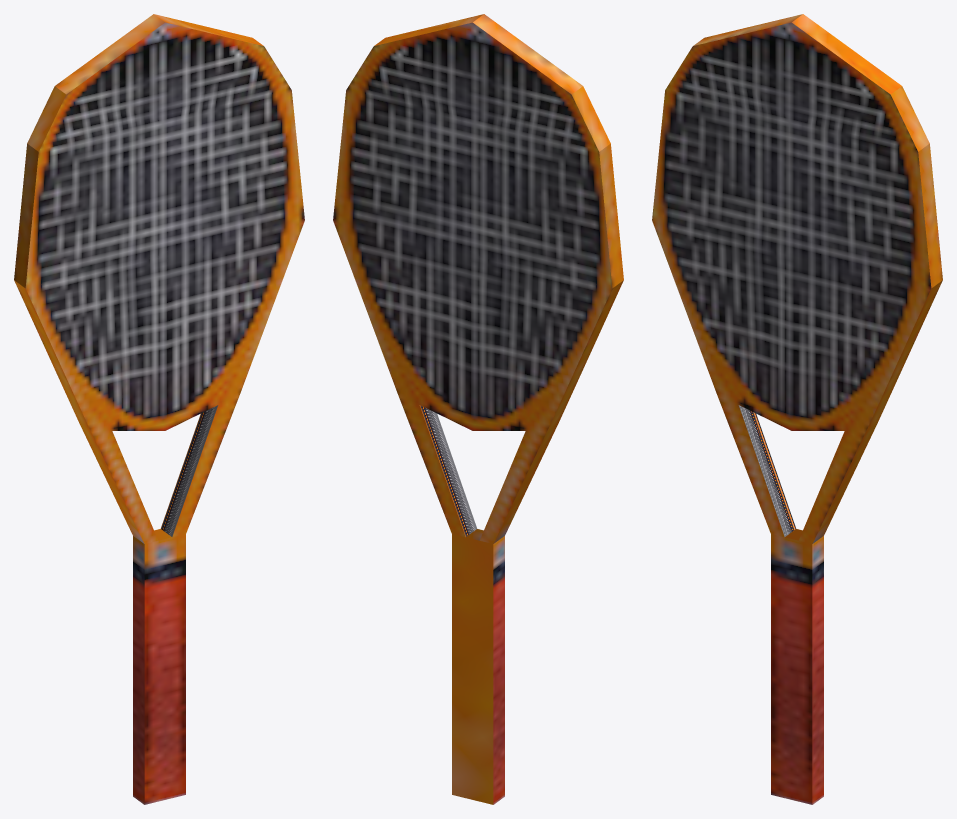
File: TennisRacket01.obj
3 renders of one model, left to right at view 1: azimuth 30°, elevation 25°; view 2: azimuth 150°, elevation 25°; view 3: azimuth 330°, elevation 25°, orthographic.
Parts seen in each view (by area): view 1: TennisRacket01; view 2: TennisRacket01; view 3: TennisRacket01.
Boxes of the visible parts, <box> form: TennisRacket01: <box>14,14,304,804</box>; TennisRacket01: <box>333,14,623,804</box>; TennisRacket01: <box>652,14,942,804</box>.
Bounding box in the file's own units: 0.9384 × 2.5 × 0.0675.
